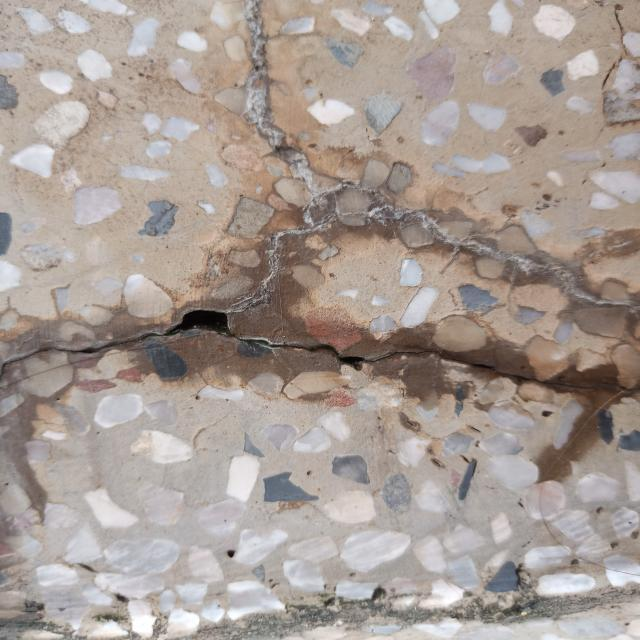horizontal crack: (0, 309, 597, 391)
